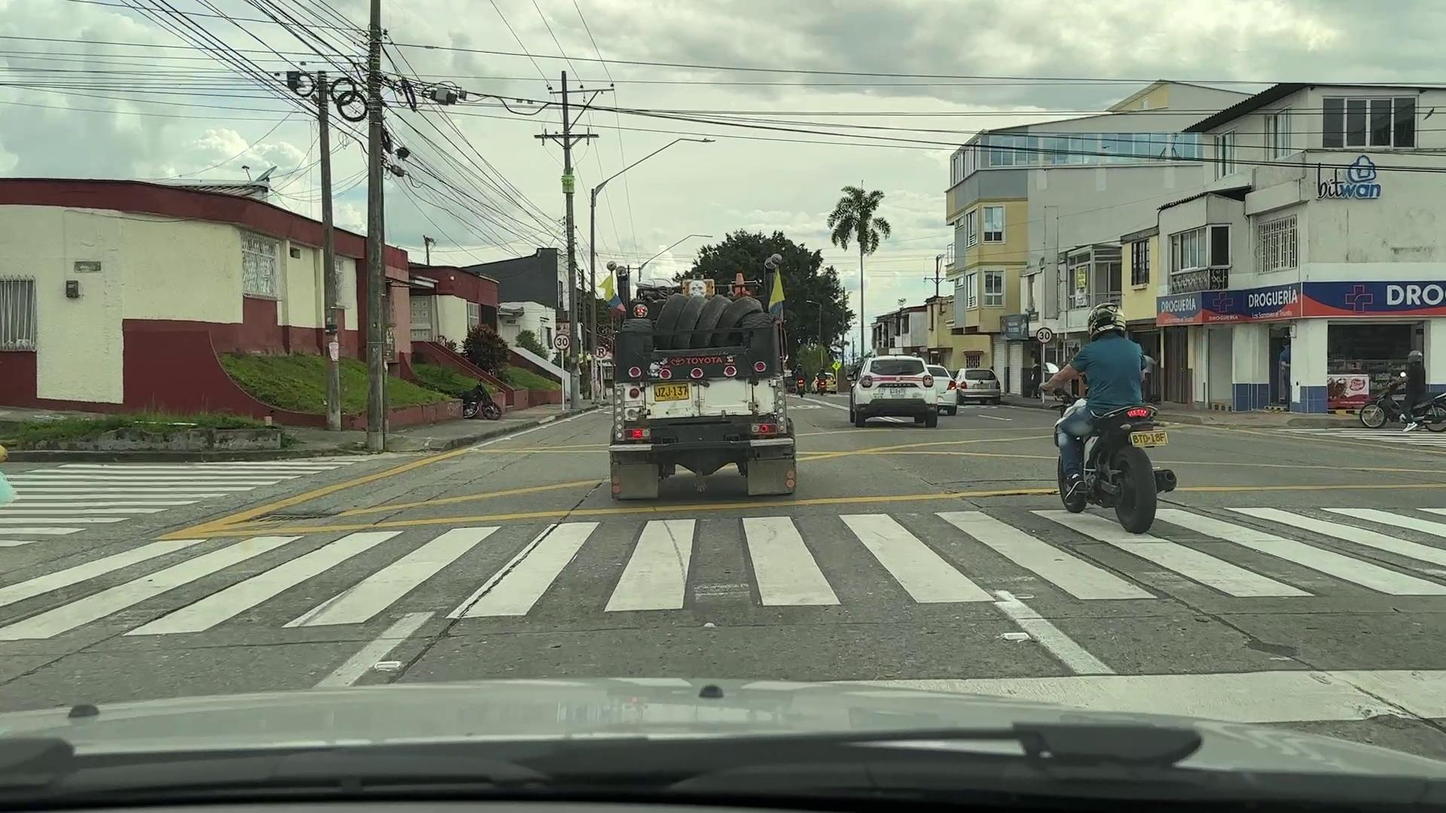bache: (1247, 638, 1296, 658)
grieta: (960, 490, 1059, 498)
rejilla: (225, 511, 336, 524)
